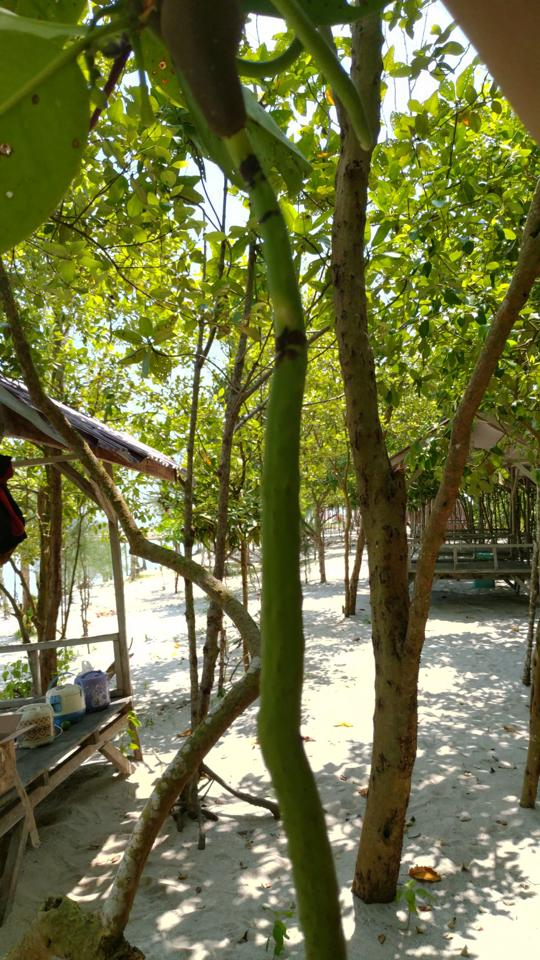setengah matang: (145, 6, 360, 955)
